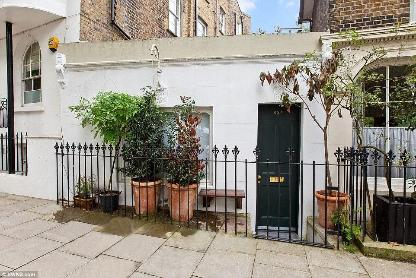door: (253, 98, 305, 241)
